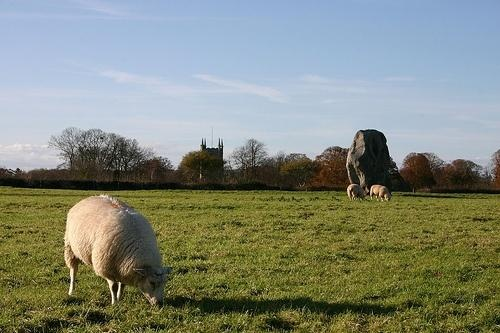sheep: (65, 194, 165, 308), (370, 183, 394, 204), (348, 184, 368, 202)
